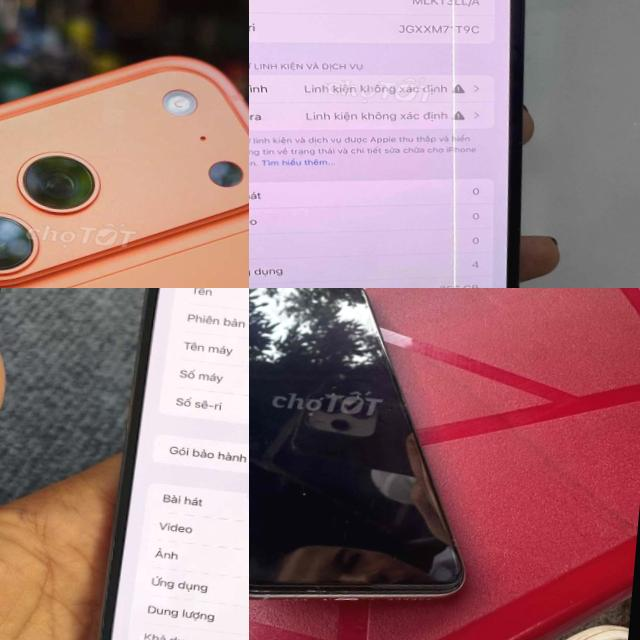scratch: (302, 586, 325, 597)
screen_defect: (370, 0, 524, 288)
